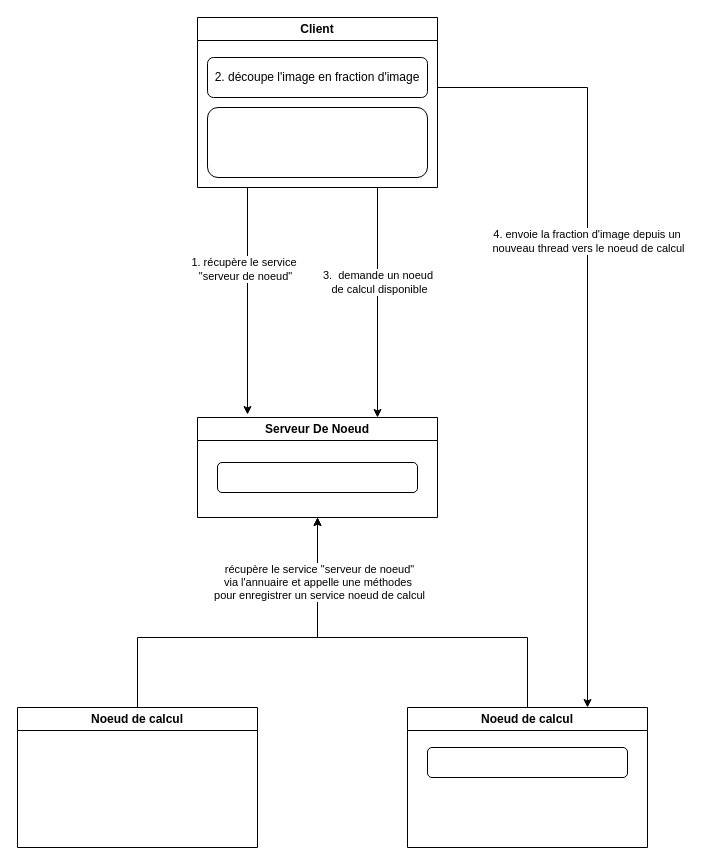
This 701x865 diagram has some shape labels left out. Each missing label, with the centre of its shape:
"5. calcul la fraction d'image" goes at (527,762).
"6. affiche le résultat du noeud de calcul à l'emplacement de la fraction d'image" goes at (317,142).
"liste des noeuds de calculs" goes at (317,477).
